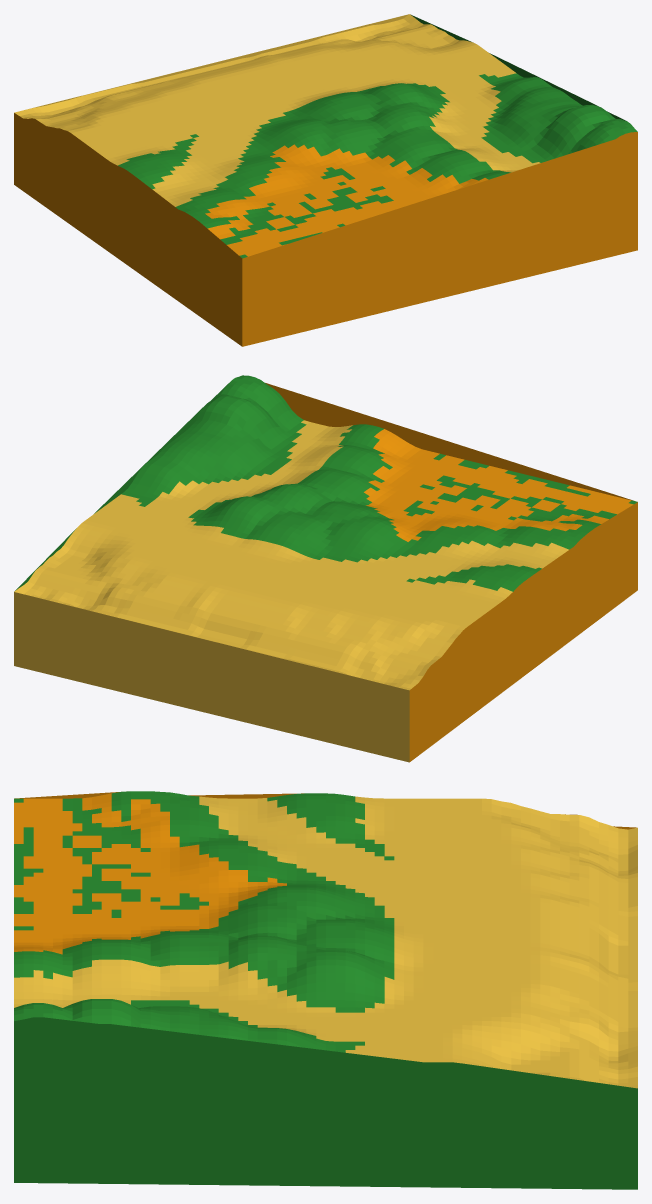
The model's file is Level3-Area2.fbx.
3 views of the same model, one above another, from view 1: azimuth 30°, elevation 25°; view 2: azimuth 150°, elevation 25°; view 3: azimuth 270°, elevation 25° (orthographic). The views are drawn at different scales.
Visible parts, largest first — view 1: Level3Area2; view 2: Level3Area2; view 3: Level3Area2.
Part boxes in pixels (bbox=[...]): Level3Area2: bbox=[14, 14, 637, 346]; Level3Area2: bbox=[14, 375, 637, 762]; Level3Area2: bbox=[14, 791, 637, 1189].
Size of the model in its own units: 10000 by 3050 by 10000.
